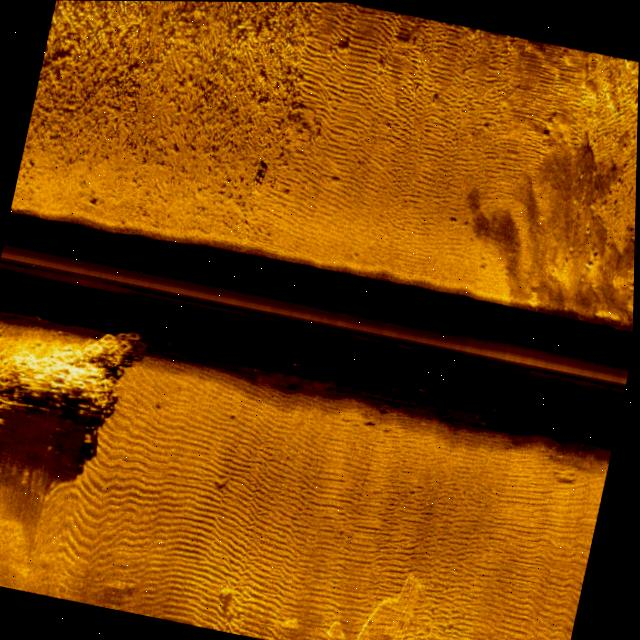artificial reef: (0, 302, 144, 446)
